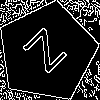Z: (22, 27, 76, 82)
